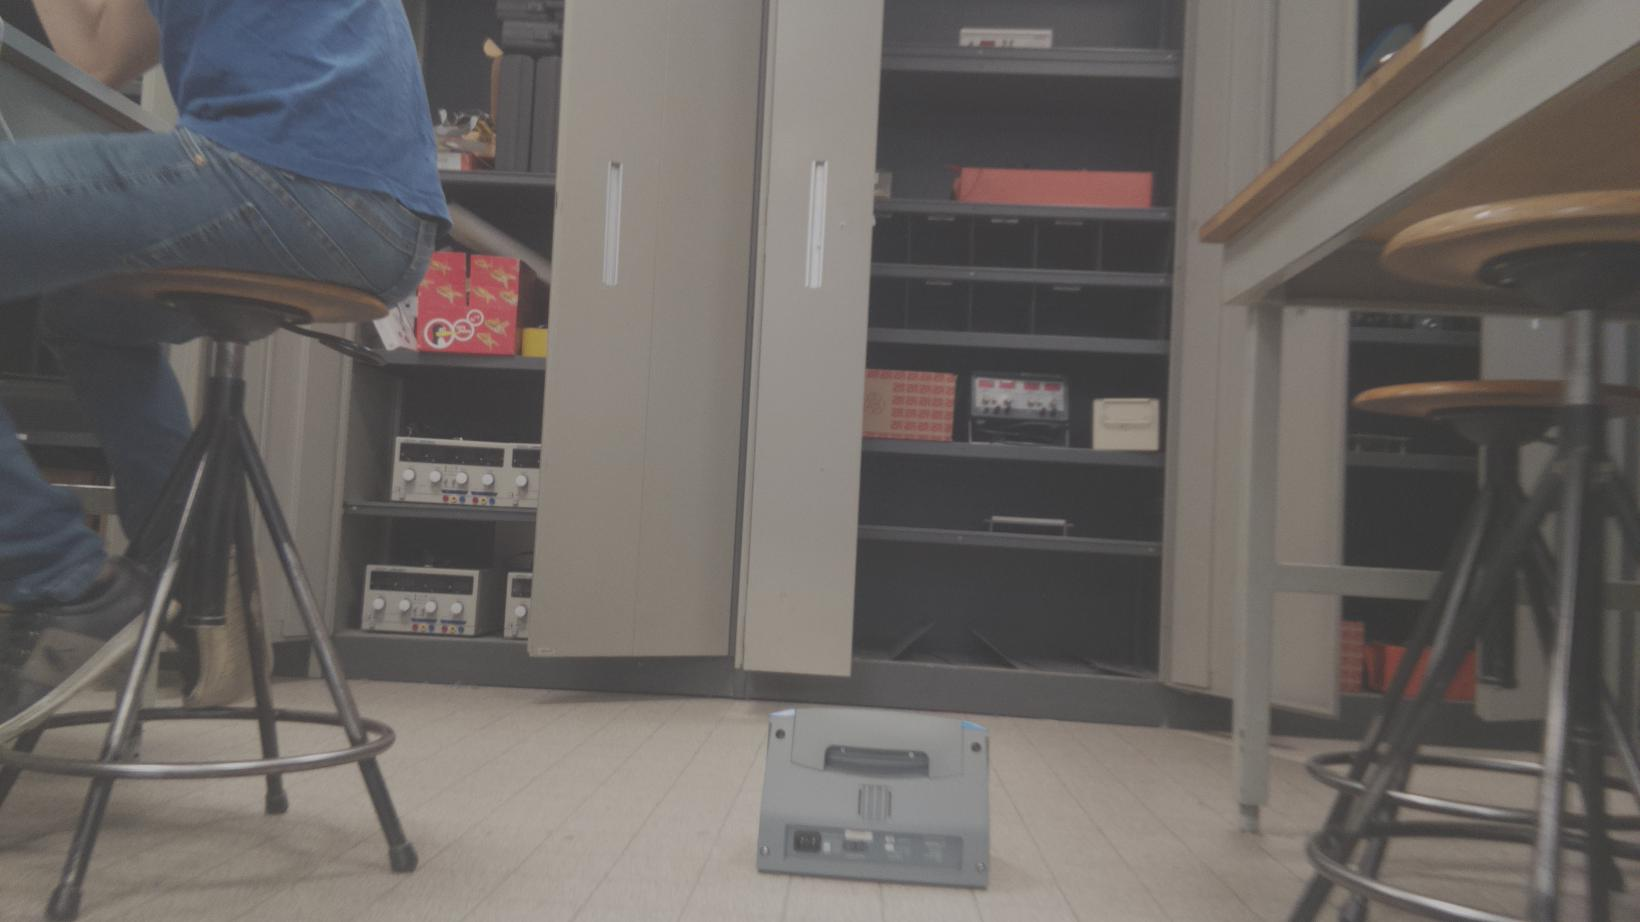medium: (754, 701, 999, 888)
